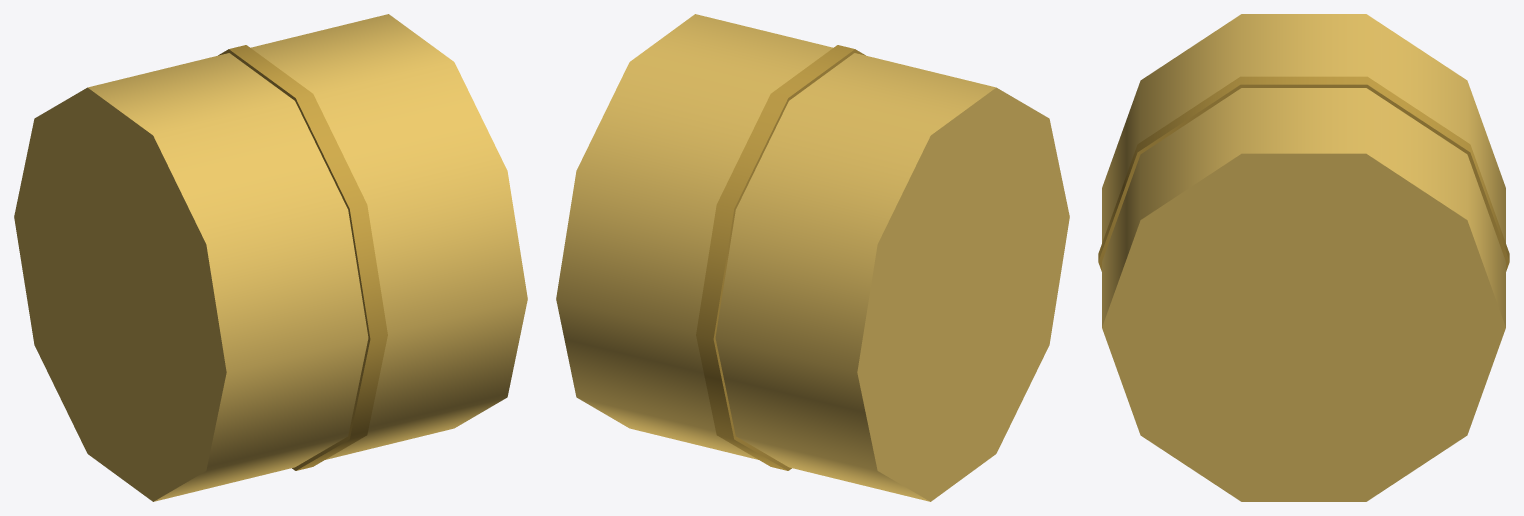
The model's file is paca.glb.
The picture shows the model from 3 angles, left to right: view 1: azimuth 30°, elevation 25°; view 2: azimuth 150°, elevation 25°; view 3: azimuth 270°, elevation 25°; orthographic projection. The views are drawn at different scales.
Bounding box in the file's own units: 0.9 × 1.07 × 1.12.
